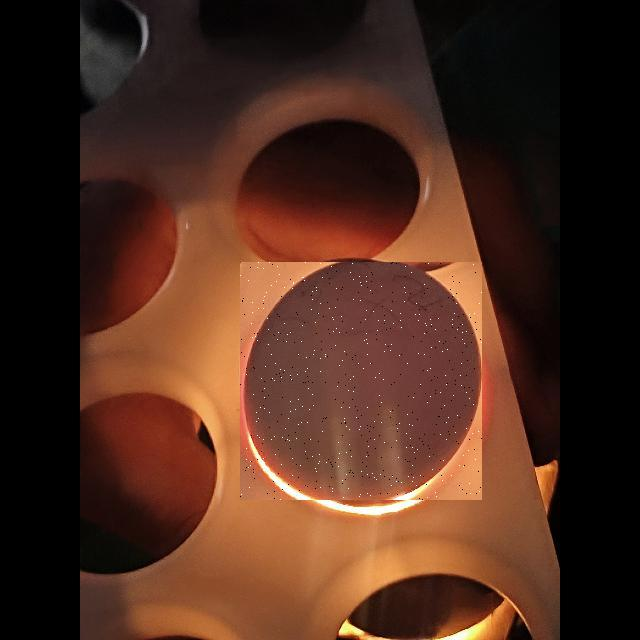Fertile: (240, 262, 482, 500)
